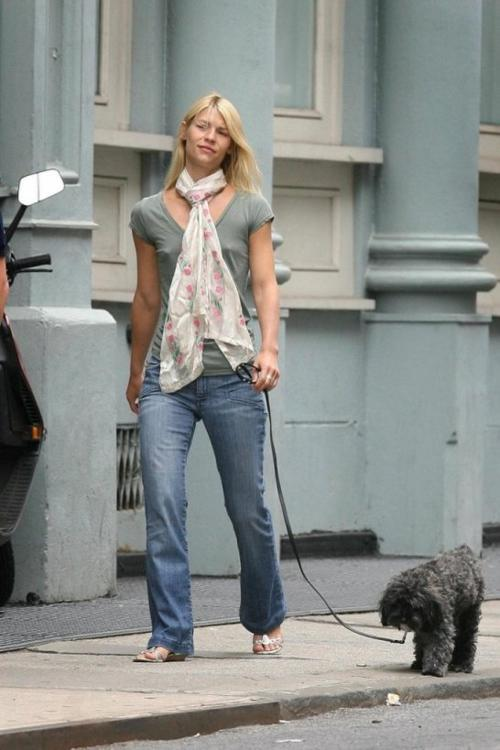person: (128, 92, 289, 666)
